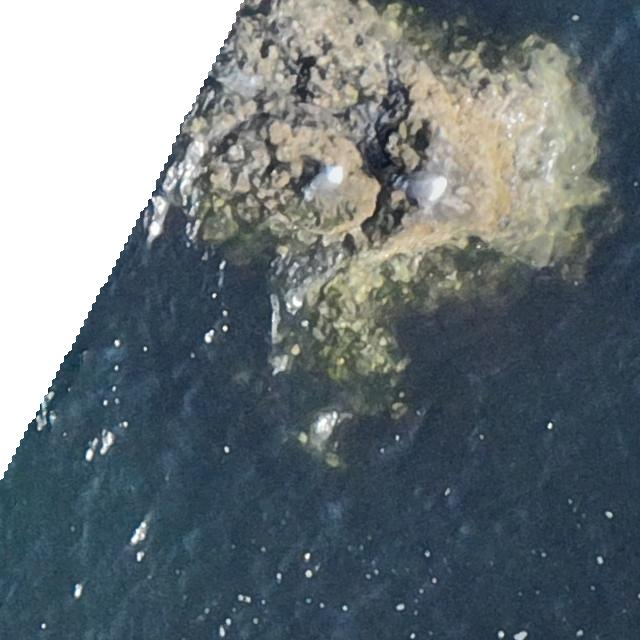umineko: (396, 176, 448, 202), (308, 168, 338, 190)
